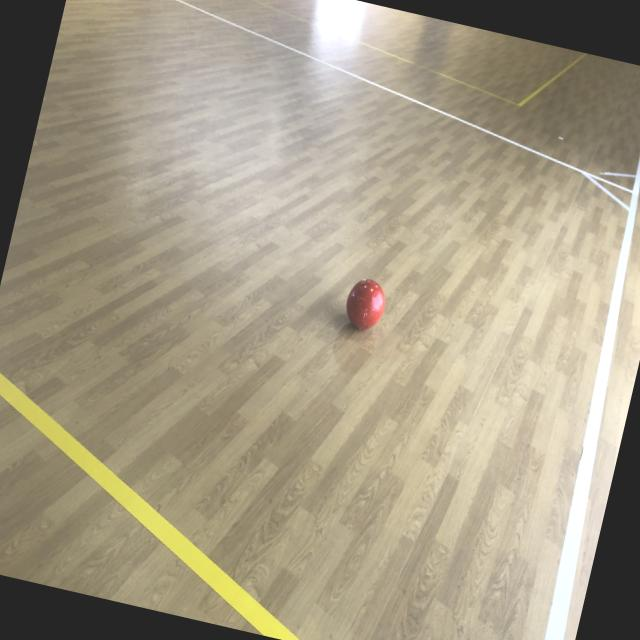red_ball: (340, 275, 390, 333)
